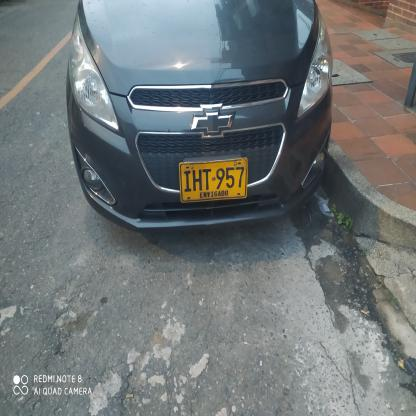placa: (174, 158, 253, 205)
